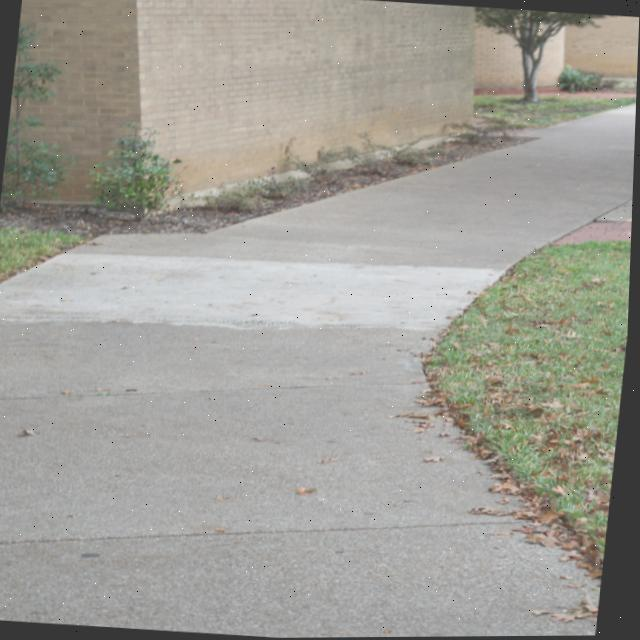Sidewalk: (0, 105, 637, 638)
